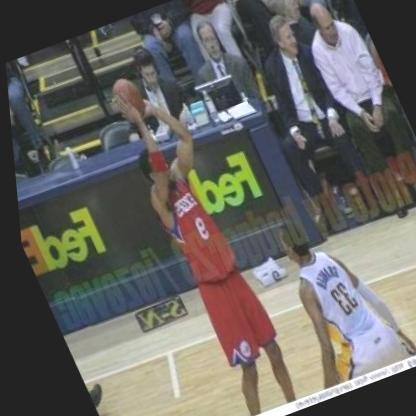basketball: (101, 71, 152, 121)
